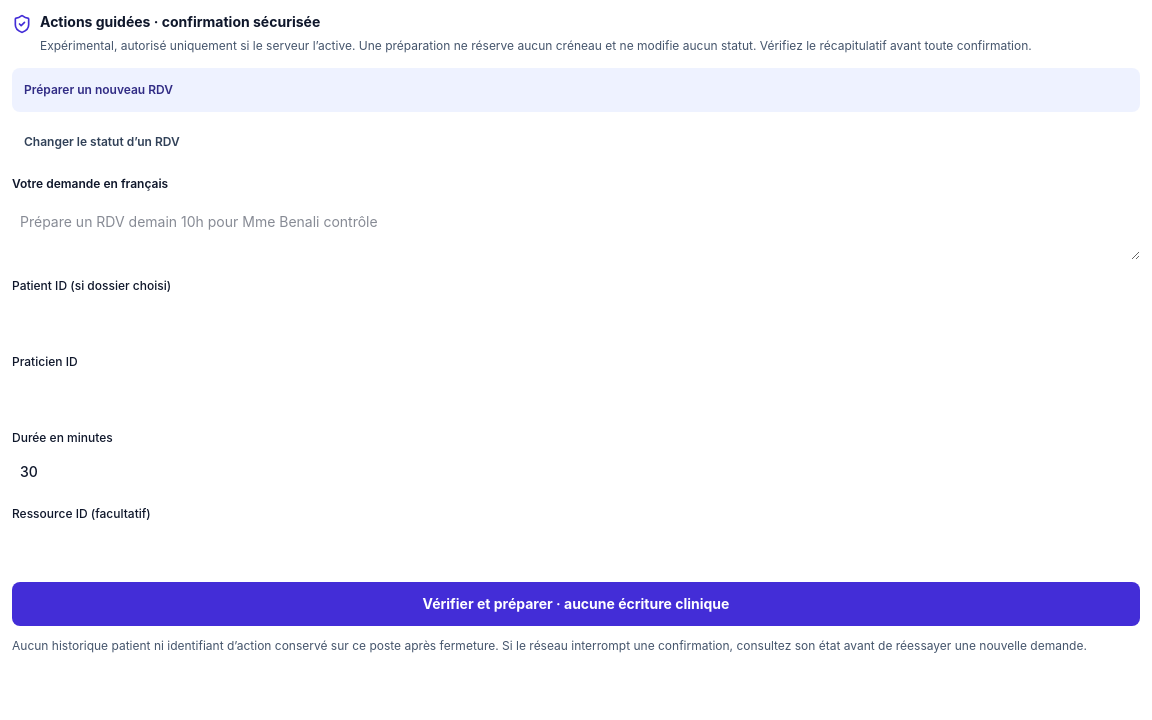
Scenario: CB-03 G3 synthetic explicit-confirmation UX › status preparation sends selected appointment only; initial revision comes from SQL response
The image size is (1152, 720).
Click the button "Changer le statut d’un RDV".
click(102, 141)  # box [12,120,1140,164]
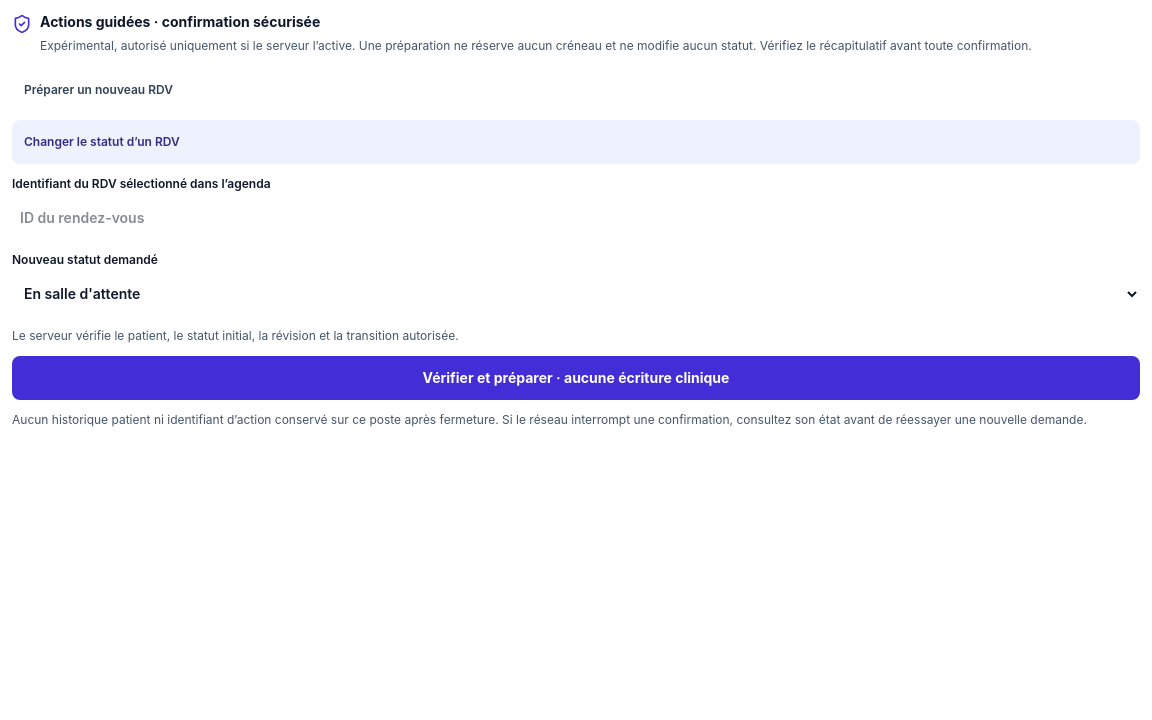
Type "32" into the field labelled "Identifiant du RDV sélectionné dans l’agenda".
click(576, 218); type("32")  # box [12,196,1140,240]
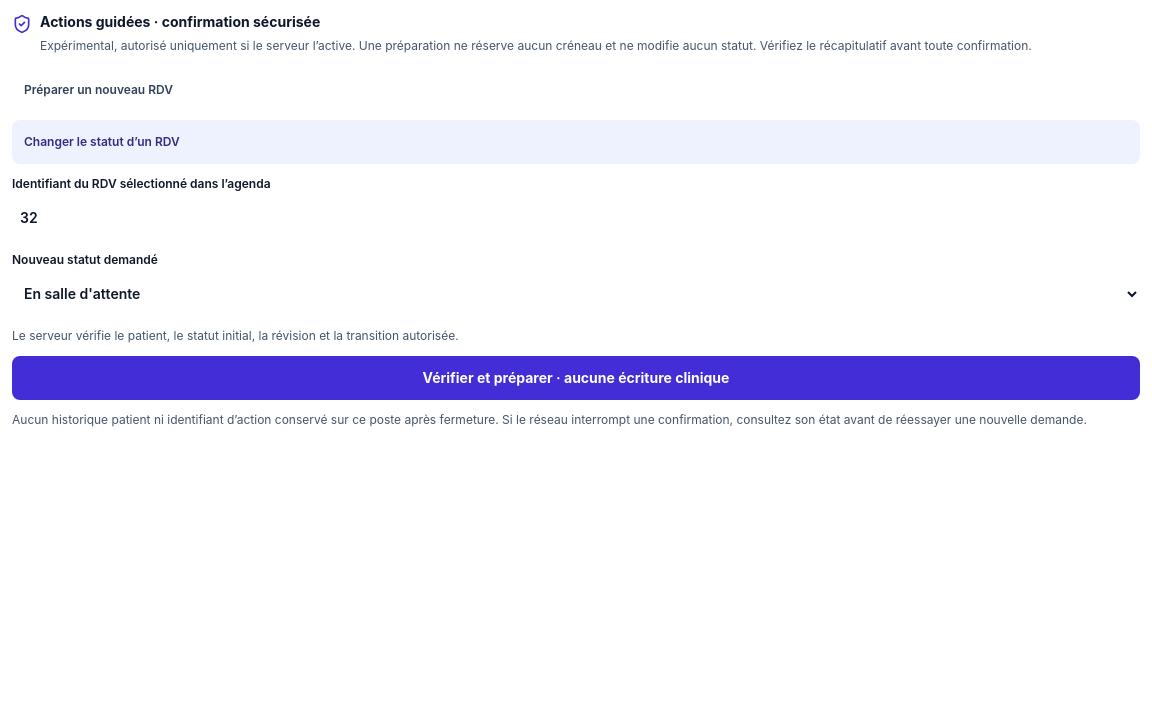
Click the button "Vérifier et préparer · aucune écriture clinique".
click(576, 378)  # box [12,356,1140,400]
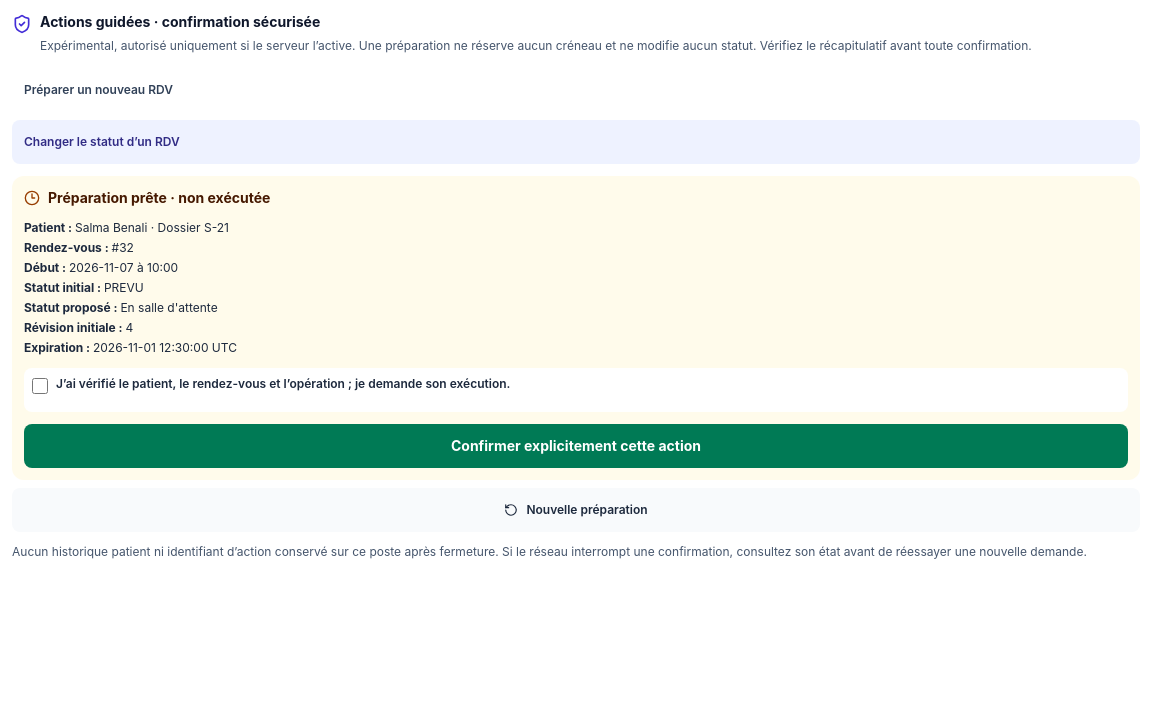
Check: the text "PREVU" is shown, box [104,280,144,294]
Check: the text "4" is shown, box [125,320,133,334]
Check: the button "Confirmer explicitement cette action" is disabled, box [24,424,1128,468]
Click the checkbox labelled "J’ai vérifié le patient".
click(40, 386)  # box [32,378,48,394]
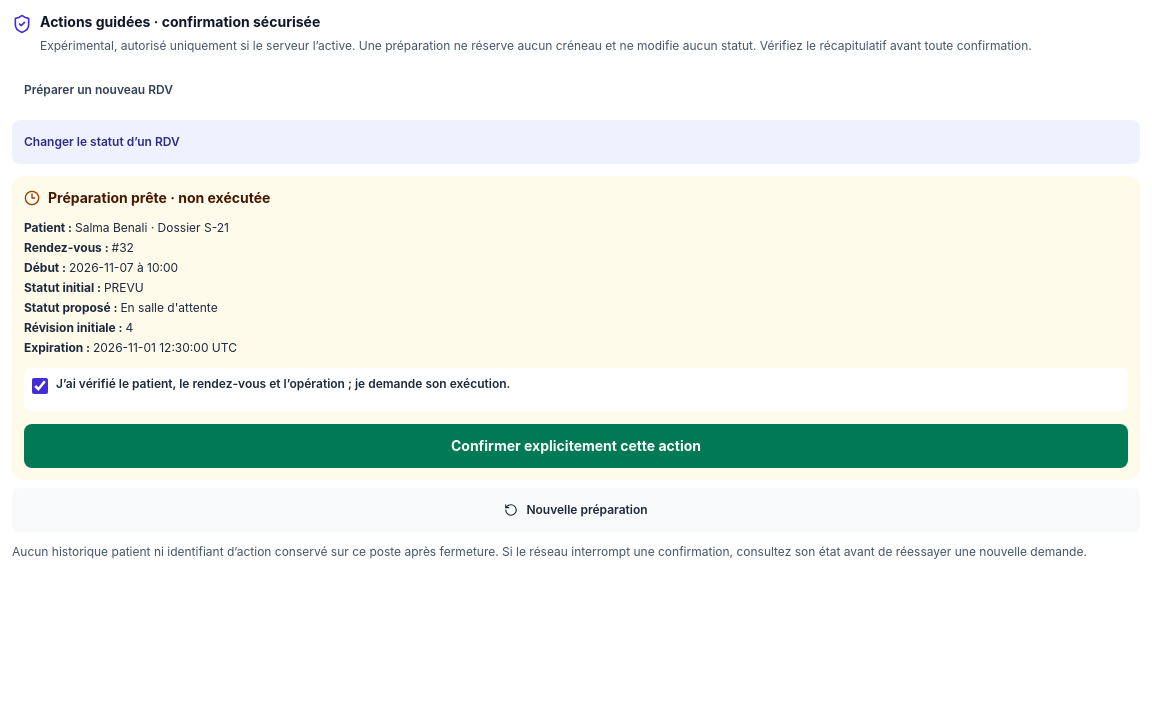
Click the button "Confirmer explicitement cette action".
click(576, 446)  # box [24,424,1128,468]
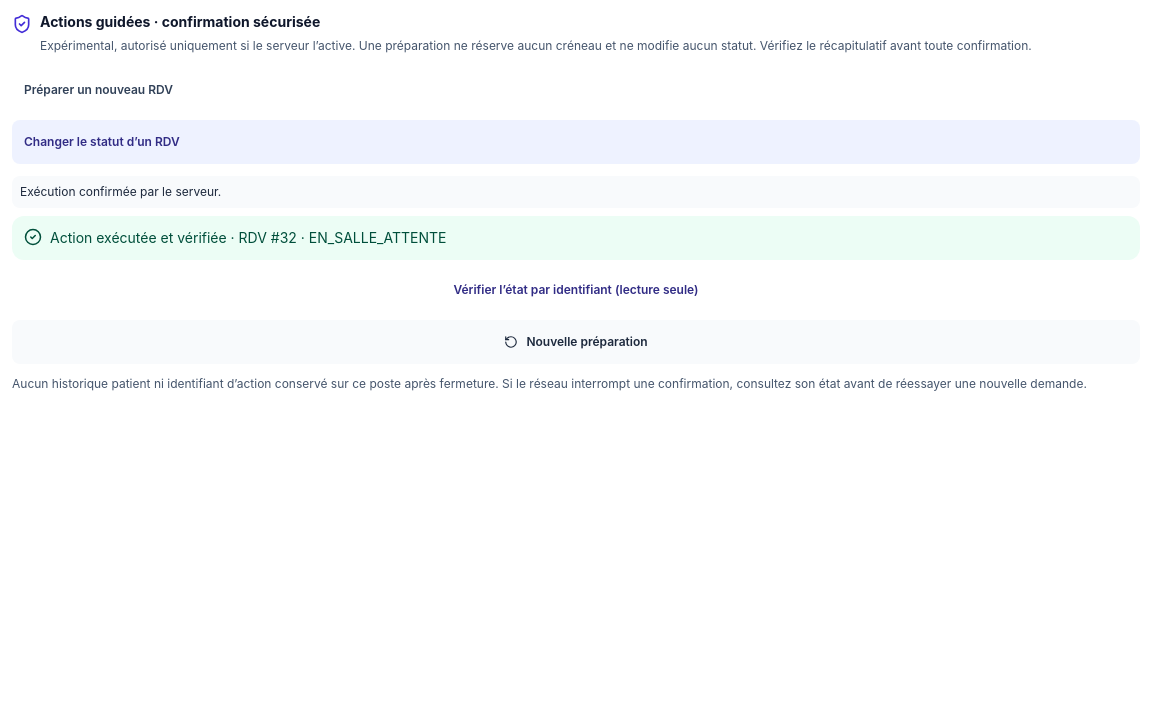
Check: the text "Action exécutée et vérifiée · RDV #32 · EN_SALLE_ATTENTE" is shown, box [50,228,446,248]
